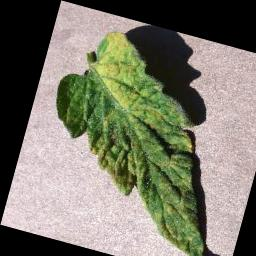Leaf_Mold: (23, 20, 256, 256)
